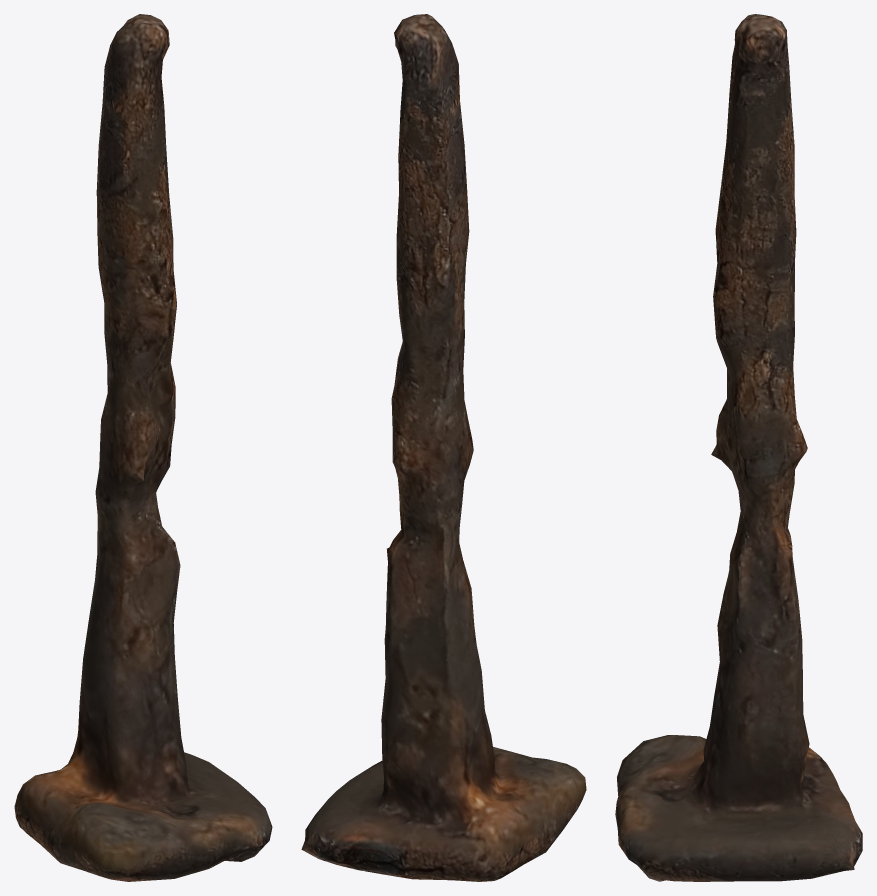
File: antiquity3_32.fbx
3 views of the same model, side by side, from view 1: azimuth 30°, elevation 25°; view 2: azimuth 150°, elevation 25°; view 3: azimuth 270°, elevation 25° (orthographic). The views are drawn at different scales.
Parts seen in each view (by area): view 1: 0553; view 2: 0553; view 3: 0553.
Part boxes in pixels (x1,y1,x2,y2): 0553: [14, 14, 272, 881]; 0553: [301, 14, 586, 881]; 0553: [615, 14, 862, 881].
Size of the model in its own units: 9.4 by 38.66 by 10.23.
1 material, 1 textured.
